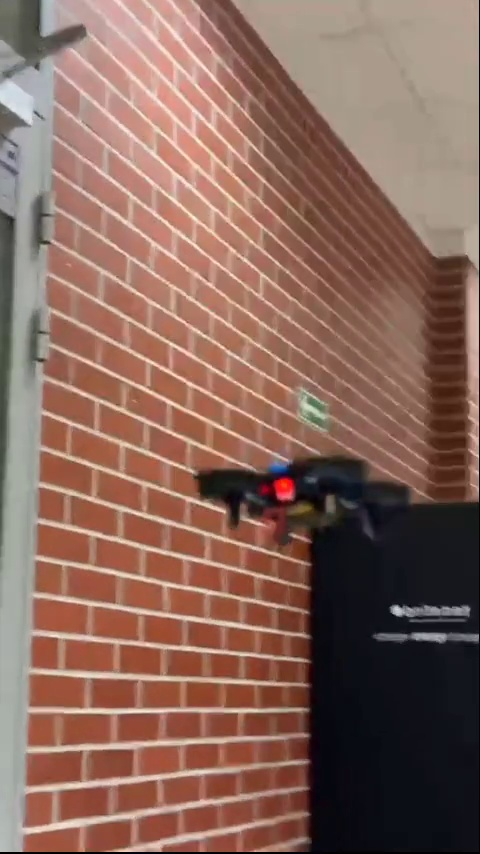drone: (209, 455, 400, 545)
